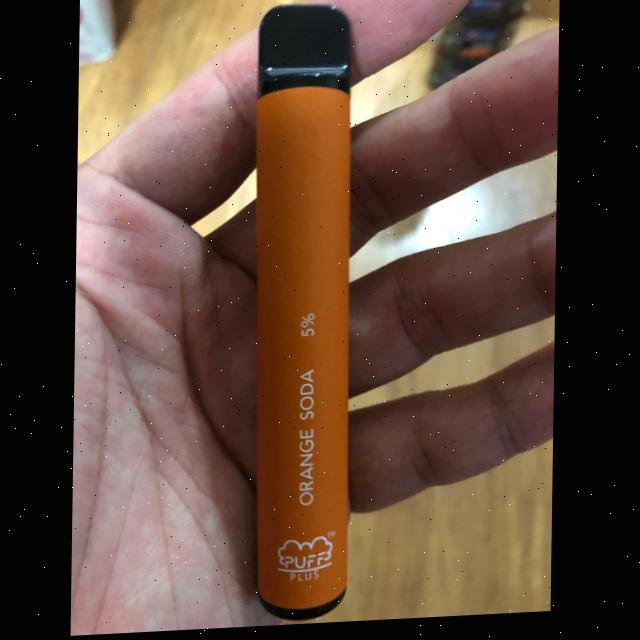vape: (254, 3, 357, 629)
